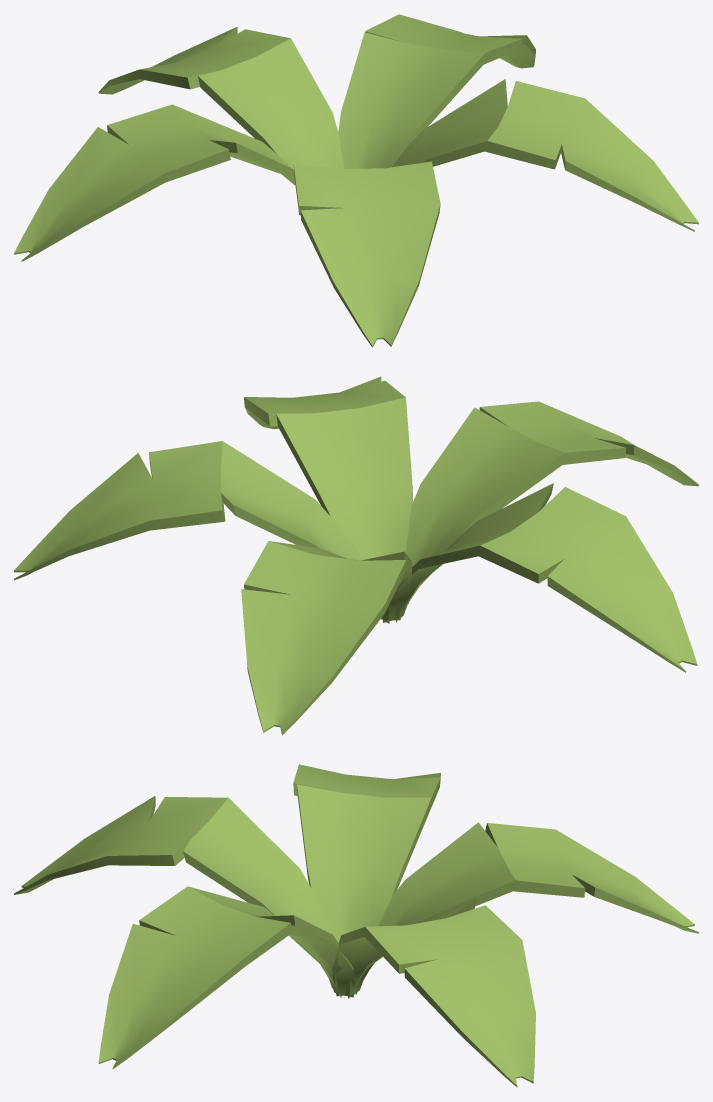
File: Bush_001.glb
3 views of the same model, one above another, from view 1: azimuth 30°, elevation 25°; view 2: azimuth 150°, elevation 25°; view 3: azimuth 270°, elevation 25° (orthographic). The views are drawn at different scales.
Parts seen in each view (by area): view 1: Bush.001; view 2: Bush.001; view 3: Bush.001.
Boxes of the visible parts, box(x1,y1,x2,y2) form: Bush.001: box(14, 14, 698, 347); Bush.001: box(14, 376, 698, 735); Bush.001: box(14, 764, 698, 1087).
Size of the model in its own units: 2.16 by 0.5137 by 2.19.
Materials: 1 (1 with a texture image).
